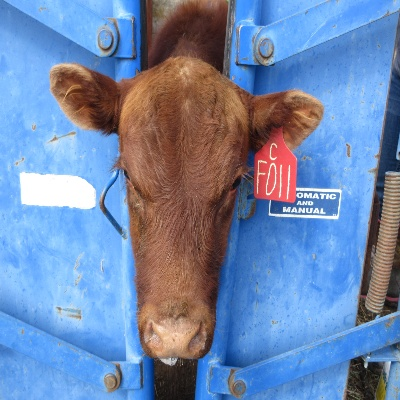fidget_spinner: (145, 315, 204, 359)
